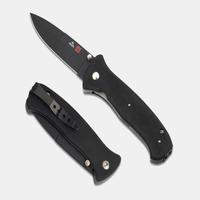knife: (25, 9, 168, 162)
